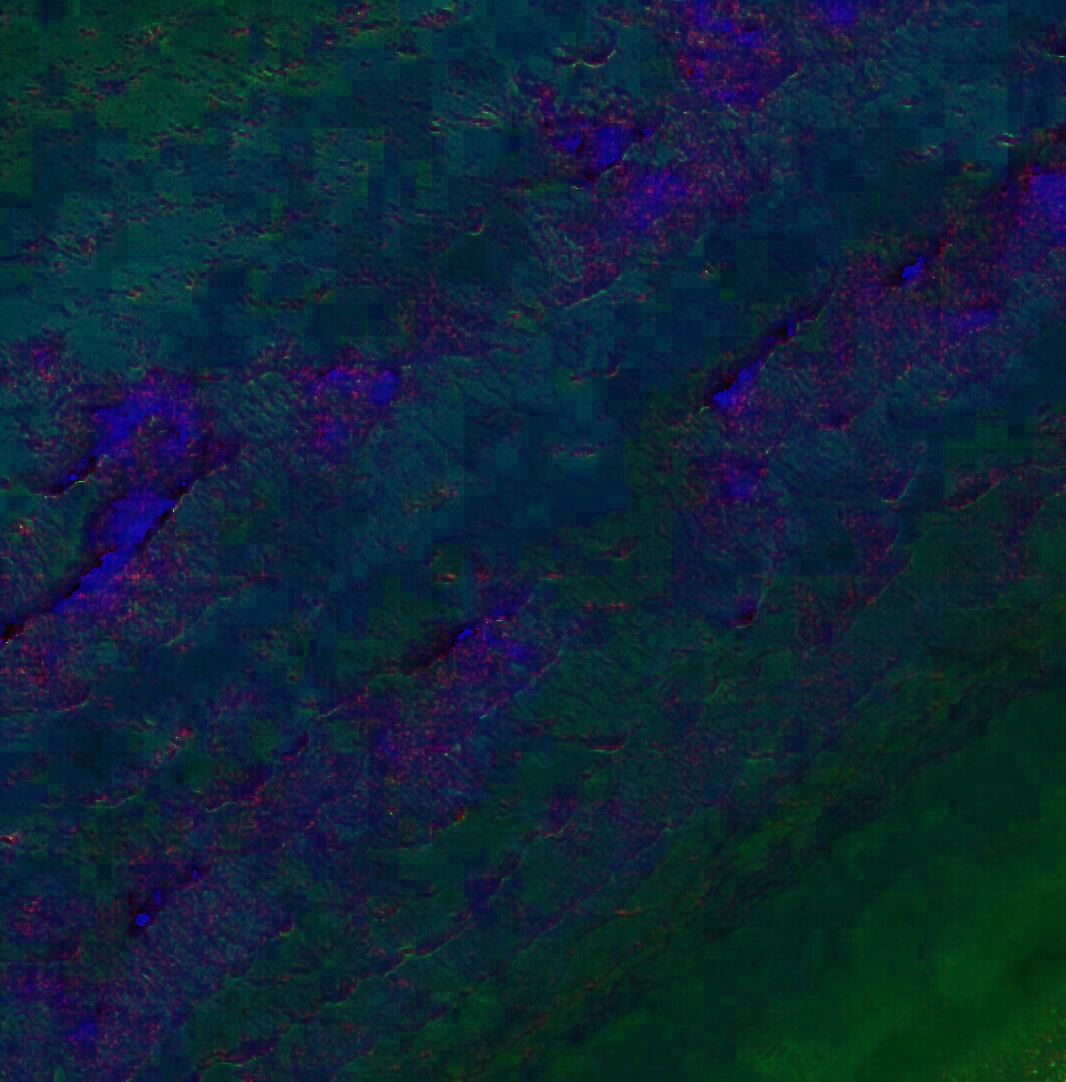rip_current: (315, 340, 864, 721)
